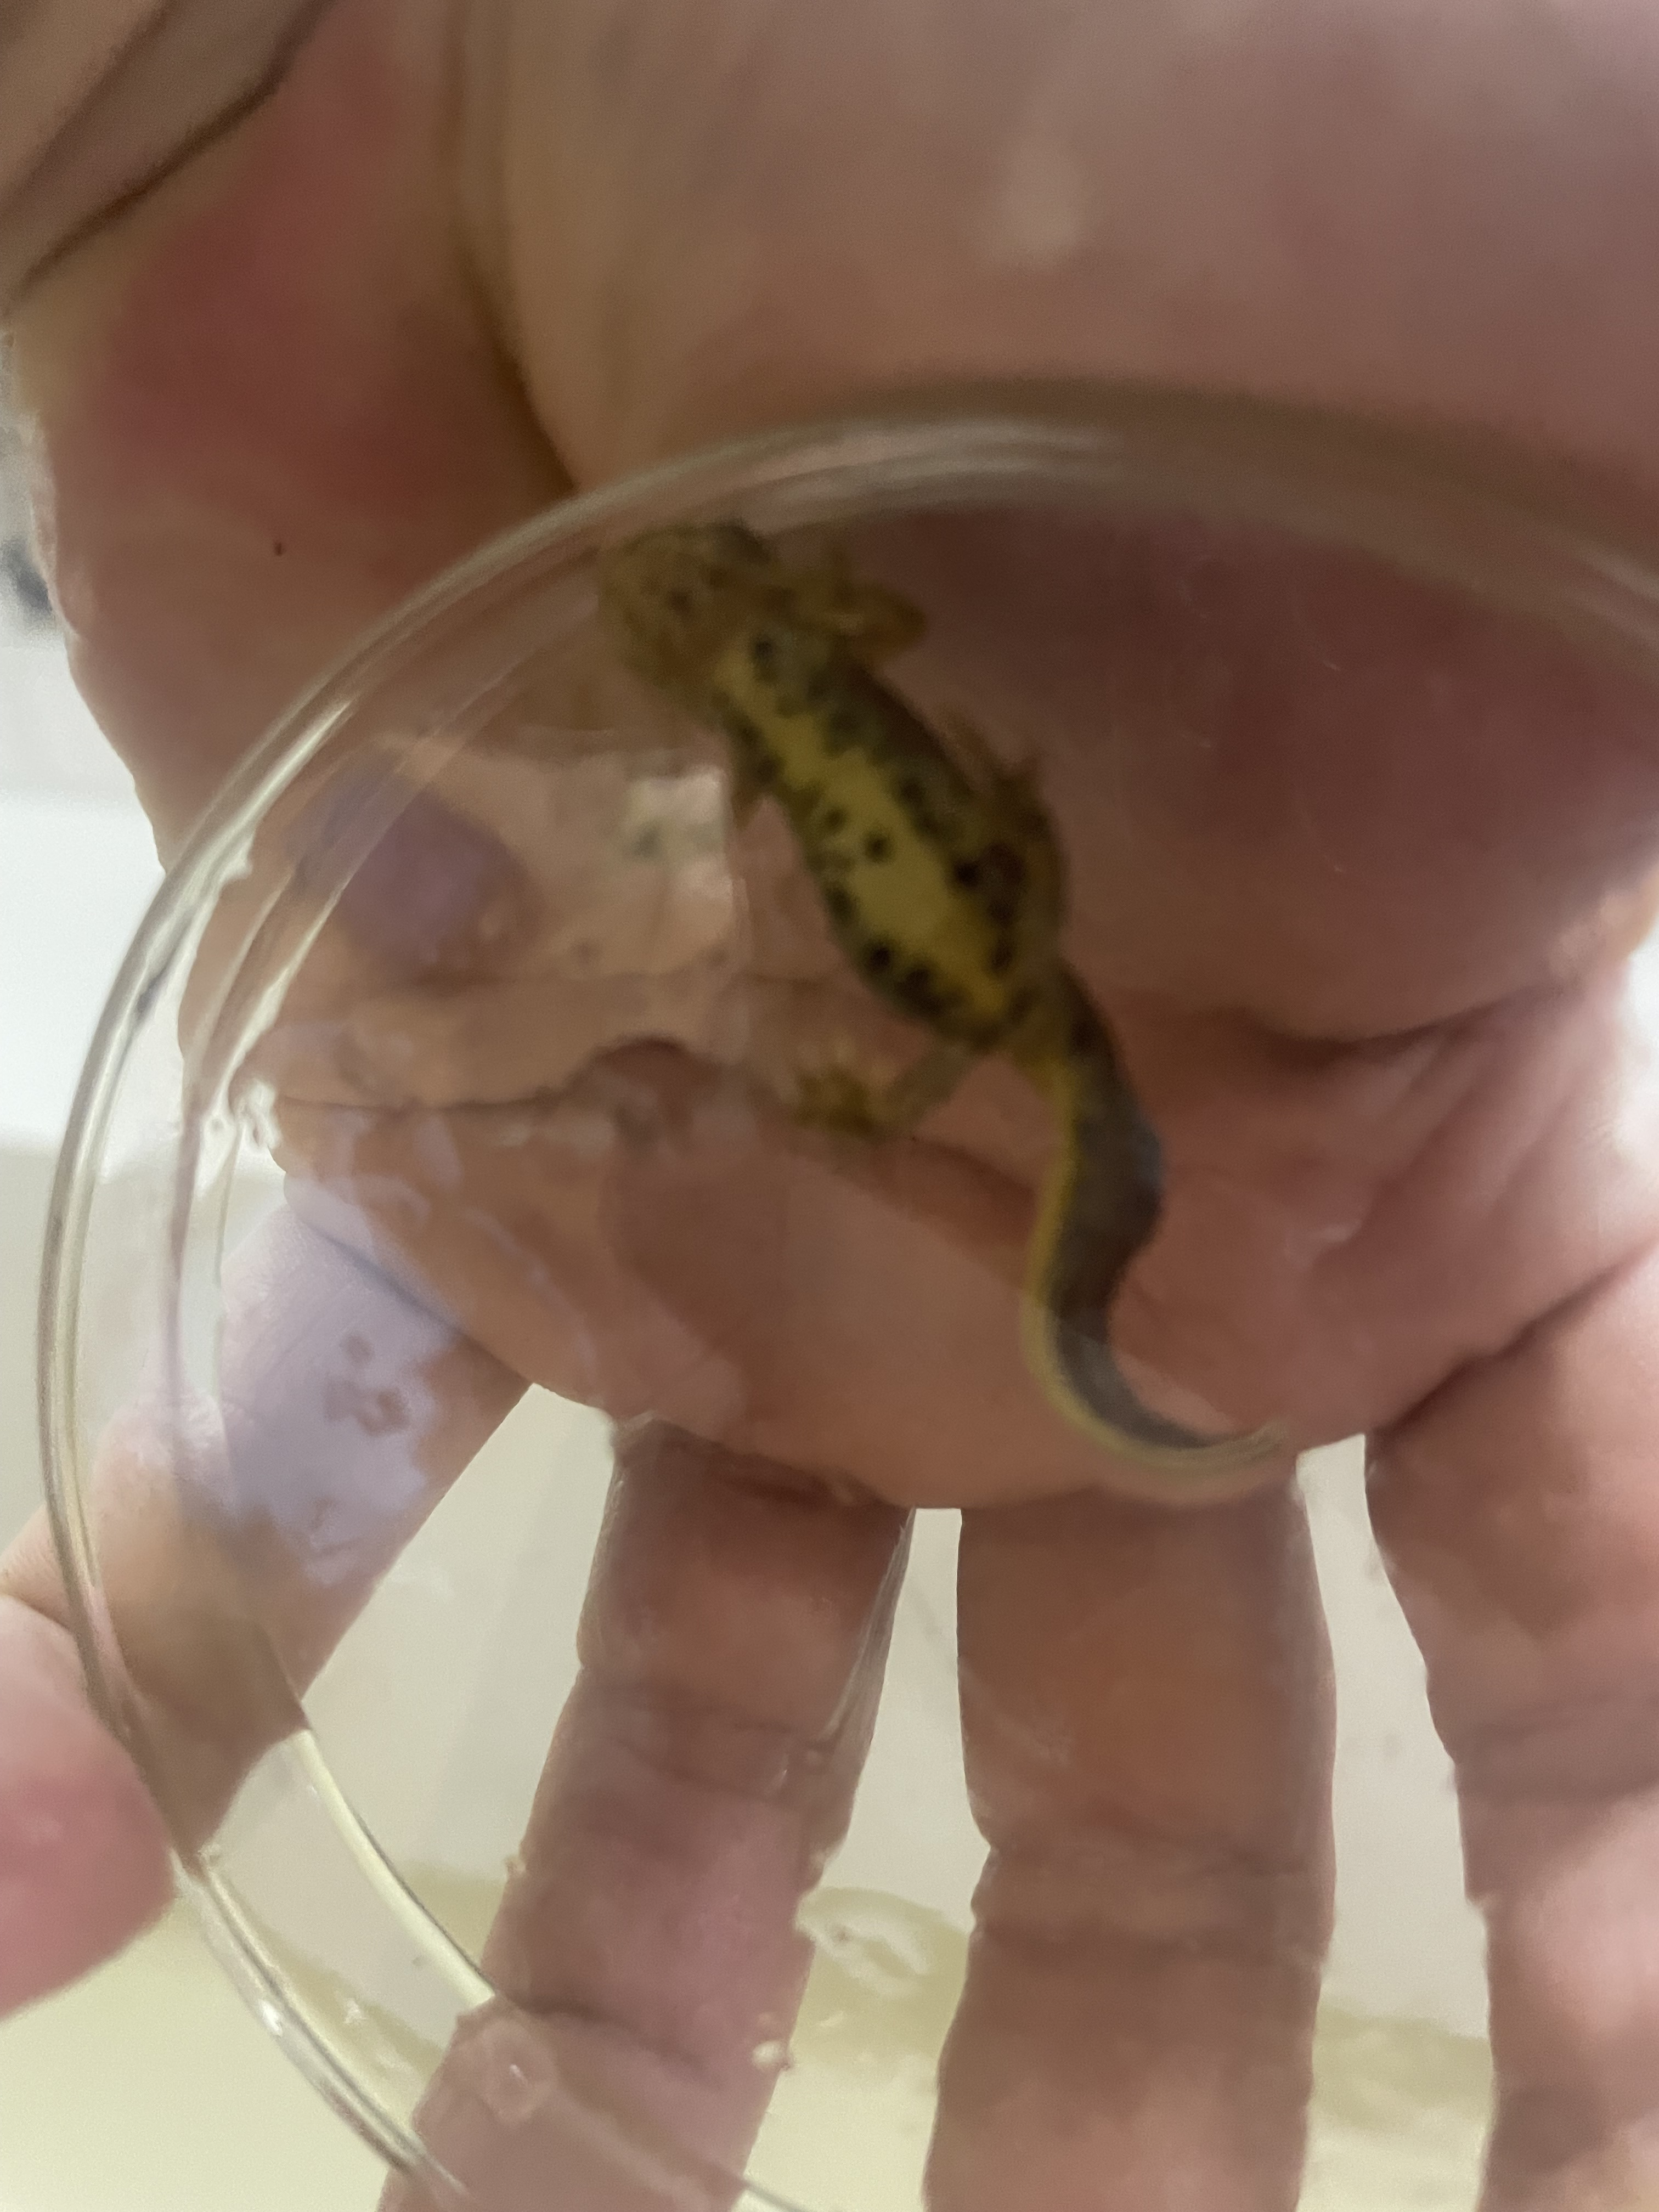Karelin_newt: (760, 660, 992, 1035)
